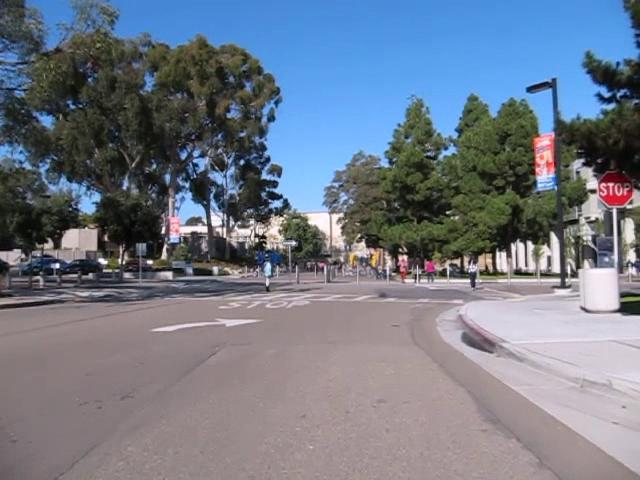stop: (596, 169, 635, 207)
